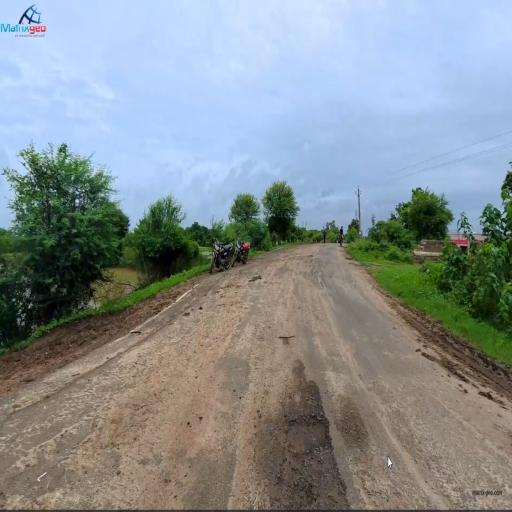pothole: (279, 393, 357, 490)
ravelling: (101, 381, 235, 471)
